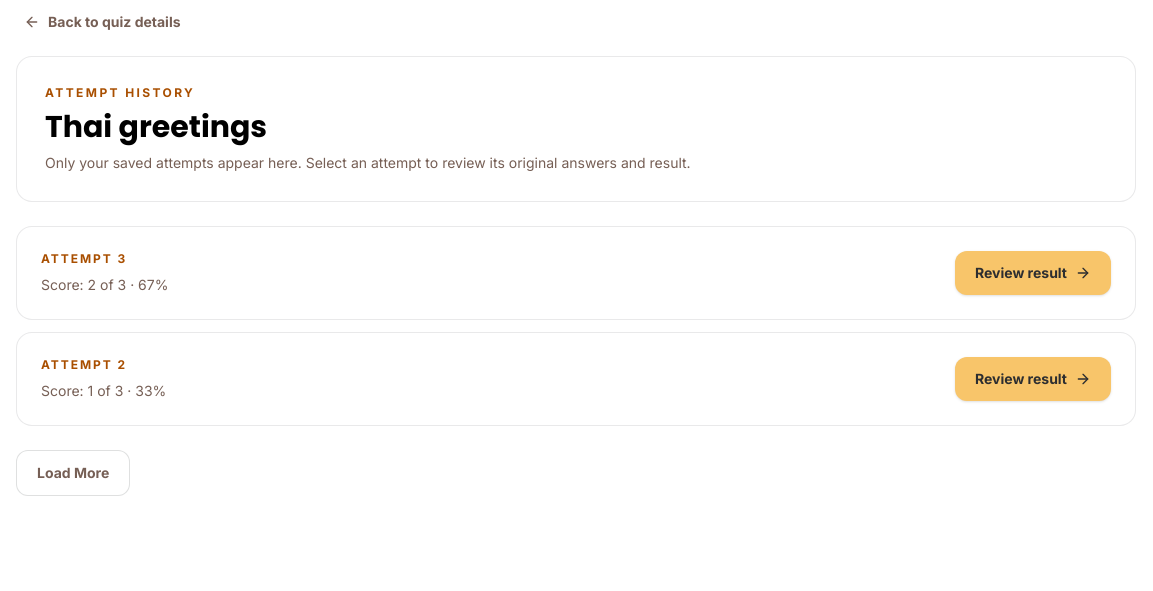
Scenario: General Practice personal history › loads newest first, uses nextCursor, and removes duplicate attempts from later pages
Expected: the text "Attempt 3" is shown, 41,251 -> 127,266
Expected: the number of headings "Thai greetings" is 1, 45,106 -> 267,148
Click the button "Load More".
click(73, 473)  # box 16,450 -> 130,496
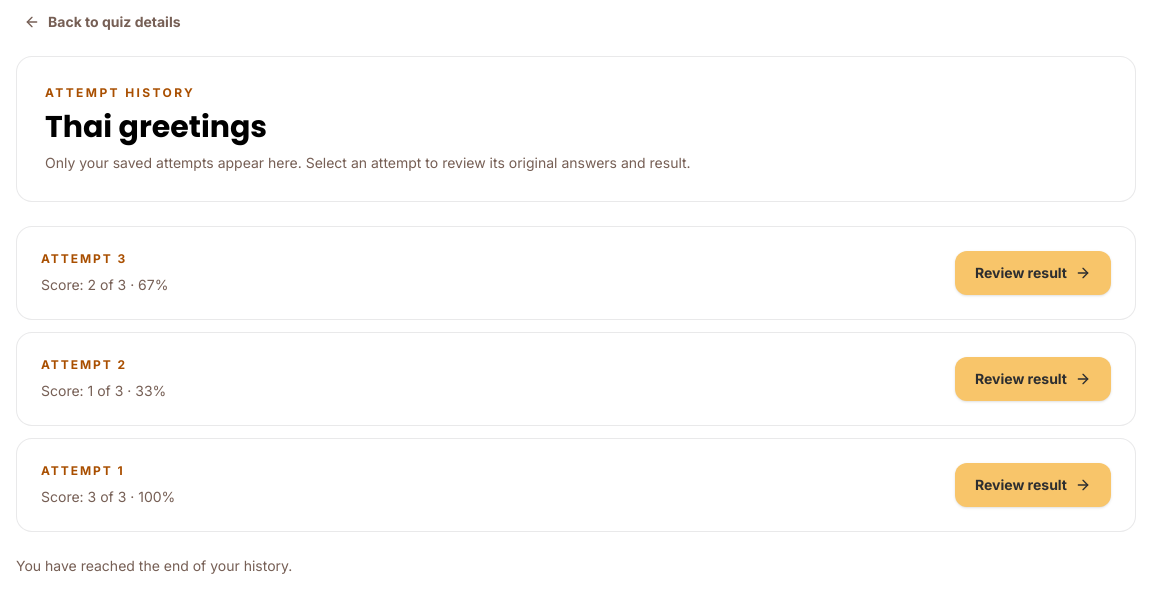
Expected: the text "Attempt 1" is shown, 41,463 -> 124,478
Expected: the number of list items is 3, 16,226 -> 1136,320; 16,332 -> 1136,426; 16,438 -> 1136,532
Expected: the button "Load More" is gone
